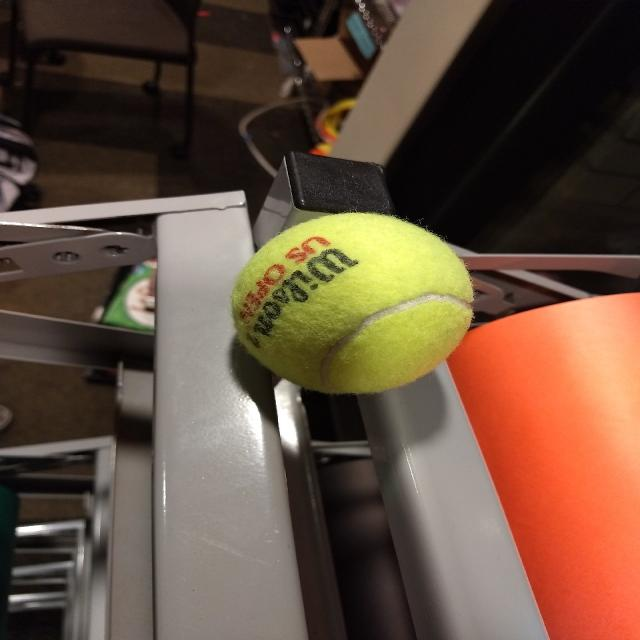tennis-ball: (235, 211, 472, 396)
